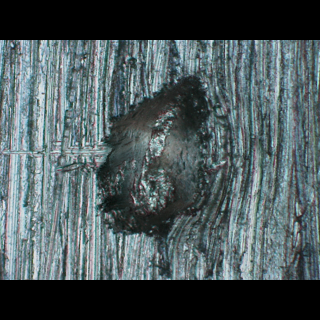d: (65, 69, 239, 247)
